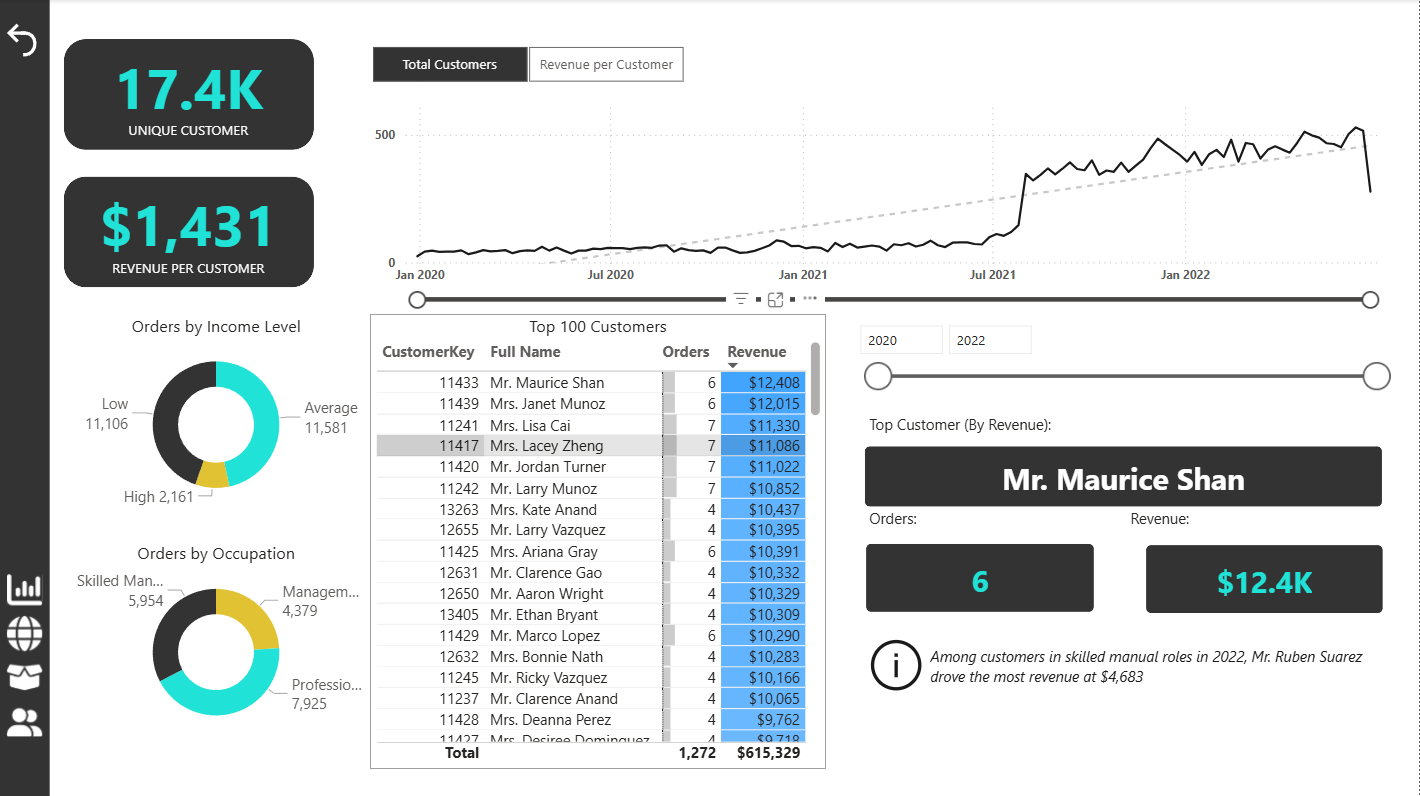

The dashboard page shown, as its layout file describes it:
{"tool":"powerbi","page":{"name":"Customer Detail","canvas":[1280,720],"ordinal":3},"visuals":[{"type":"shape","box":[0,0,45,720],"z":0},{"type":"shape","box":[57.5,160.1,225.7,100],"z":1000},{"type":"shape","box":[57.5,35.7,225.7,100],"z":2000},{"type":"card","fields":{"Values":["Measure Table.Total Customers"]},"box":[45,26.2,250,120],"z":3000},{"type":"card","fields":{"Values":["Measure Table.Average Revenue per Customer"]},"box":[45,150,250,120],"z":4000},{"type":"lineChart","title":"Weekly Customers","fields":{"Category":["Calendar Lookup.Date Hierarchy.Start of Year","Calendar Lookup.Date Hierarchy.Start of Month","Calendar Lookup.Date Hierarchy.Start of Week","Calendar Lookup.Date Hierarchy.Date"],"Y":["Measure Table.Total Customers"]},"box":[332.1,85.9,931.4,196],"z":5000},{"type":"donutChart","title":"Orders by Income Level","fields":{"Series":["Customer Lookup.Income Level"],"Y":["Measure Table.Total Orders"]},"box":[57.5,284.4,275,180],"z":6000},{"type":"donutChart","title":"Orders by Occupation","fields":{"Series":["Customer Lookup.Occupation"],"Y":["Measure Table.Total Orders"]},"box":[57.5,488.8,275,180],"z":7000},{"type":"tableEx","title":"Top 100 Customers ","fields":{"Values":["Customer Lookup.CustomerKey","Customer Lookup.Full Name","Measure Table.Total Orders","Measure Table.Total Revenue"]},"box":[333.3,284.2,411.2,409.7],"z":8000},{"type":"cardVisual","fields":{"Data":["Measure Table.Full Name (Customer Details)"]},"box":[763.3,387.1,500.1,88.3],"z":9000},{"type":"cardVisual","fields":{"Data":["Measure Table.Total Orders (Customer Details)"]},"box":[764.7,474.7,239.5,95.2],"z":10000},{"type":"cardVisual","fields":{"Data":["Measure Table.Total Revenue (Customer Details)"]},"box":[1016.3,475.2,247.5,95.8],"z":11000},{"type":"textbox","box":[779.1,370.2,183.3,35.6],"z":12000},{"type":"textbox","box":[1014.3,454,182.9,36.1],"z":13000},{"type":"textbox","box":[779.2,454,182.9,36.1],"z":14000},{"type":"slicer","fields":{"Values":["Calendar Lookup.Year"]},"box":[763.2,284.2,499.2,90.9],"z":15000},{"type":"actionButton","box":[778.7,571,483.9,58.5],"z":16000},{"type":"actionButton","box":[0,17.4,44.8,39.8],"z":17000},{"type":"actionButton","box":[2.5,631.9,44.8,39.8],"z":18000},{"type":"actionButton","box":[2.5,552.3,44.8,39.8],"z":19000},{"type":"actionButton","box":[2.5,592.1,44.8,39.8],"z":20000},{"type":"actionButton","box":[2.5,512.5,44.8,39.8],"z":21000},{"type":"slicer","fields":{"Values":["Customer Metric Selection.Customer Metric Selection"]},"box":[309.4,35.6,330.5,45.4],"z":22000}]}

Visuals, with their boxes on the page's 1280x720 design canvas (x1, y1, x2, y2). These are canvas units, not pixel positions in the 1420x796 screenshot, which may show the page scaled, cropped or inside an application window:
shape: (0,0,45,720)
shape: (58,160,283,260)
shape: (58,36,283,136)
card - Measure Table.Total Customers: (45,26,295,146)
card - Measure Table.Average Revenue per Customer: (45,150,295,270)
"Weekly Customers" lineChart: (332,86,1264,282)
"Orders by Income Level" donutChart: (58,284,332,464)
"Orders by Occupation" donutChart: (58,489,332,669)
"Top 100 Customers " tableEx: (333,284,744,694)
cardVisual - Measure Table.Full Name (Customer Details): (763,387,1263,475)
cardVisual - Measure Table.Total Orders (Customer Details): (765,475,1004,570)
cardVisual - Measure Table.Total Revenue (Customer Details): (1016,475,1264,571)
textbox: (779,370,962,406)
textbox: (1014,454,1197,490)
textbox: (779,454,962,490)
slicer - Calendar Lookup.Year: (763,284,1262,375)
actionButton: (779,571,1263,630)
actionButton: (0,17,45,57)
actionButton: (2,632,47,672)
actionButton: (2,552,47,592)
actionButton: (2,592,47,632)
actionButton: (2,512,47,552)
slicer - Customer Metric Selection.Customer Metric Selection: (309,36,640,81)
